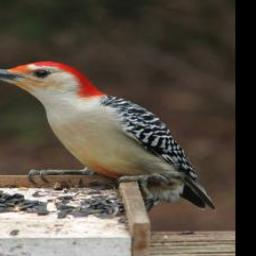Woodpecker: (0, 61, 219, 212)
